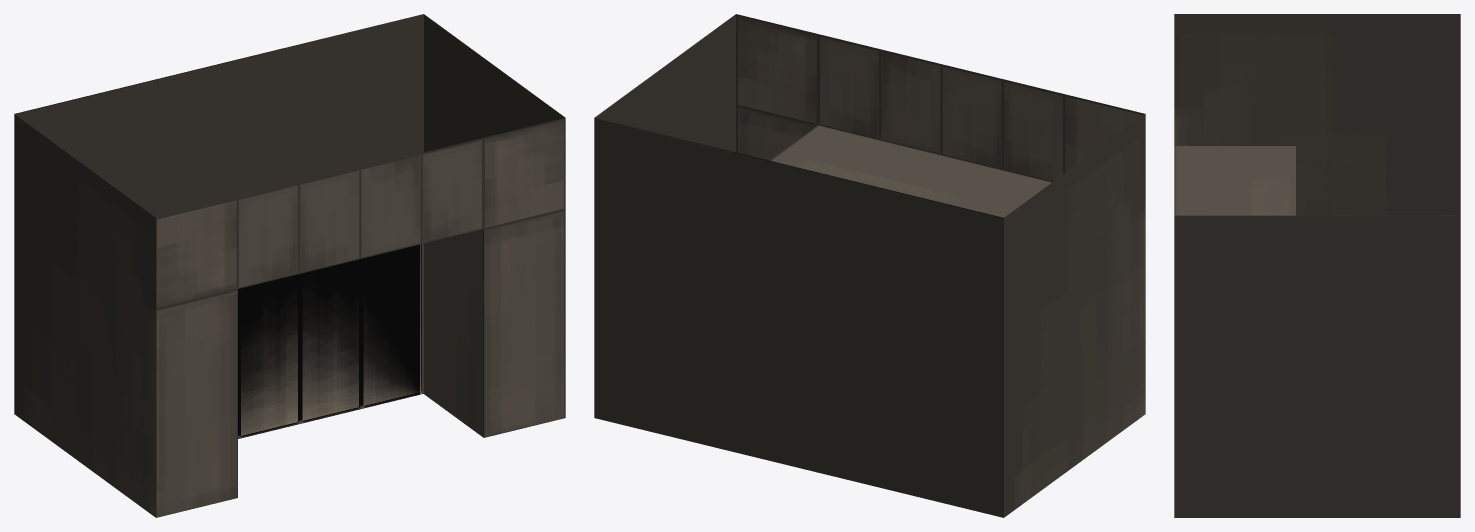
File: EntranceVar1.fbx
3 renders of one model, left to right at view 1: azimuth 30°, elevation 25°; view 2: azimuth 150°, elevation 25°; view 3: azimuth 270°, elevation 25°, orthographic.
Visible parts, largest first — view 1: polySurface7; view 2: polySurface7; view 3: polySurface7.
Boxes of the visible parts, x1,y1,x2,y2 form: polySurface7: [14, 14, 565, 517]; polySurface7: [594, 14, 1145, 517]; polySurface7: [1174, 14, 1460, 517].
Size of the model in its own units: 500 by 350 by 300.
